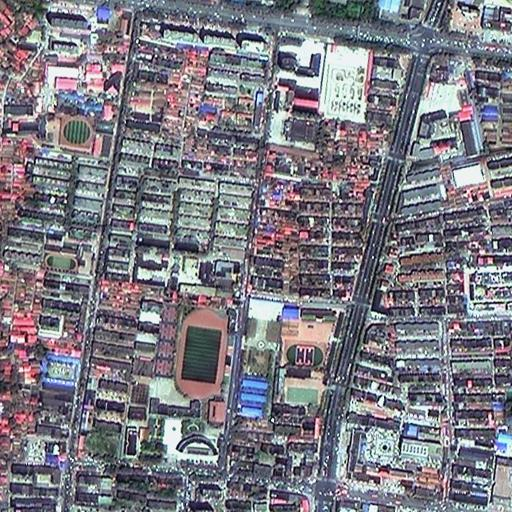school: (150, 300, 230, 461), (278, 303, 340, 374), (34, 109, 97, 151)
